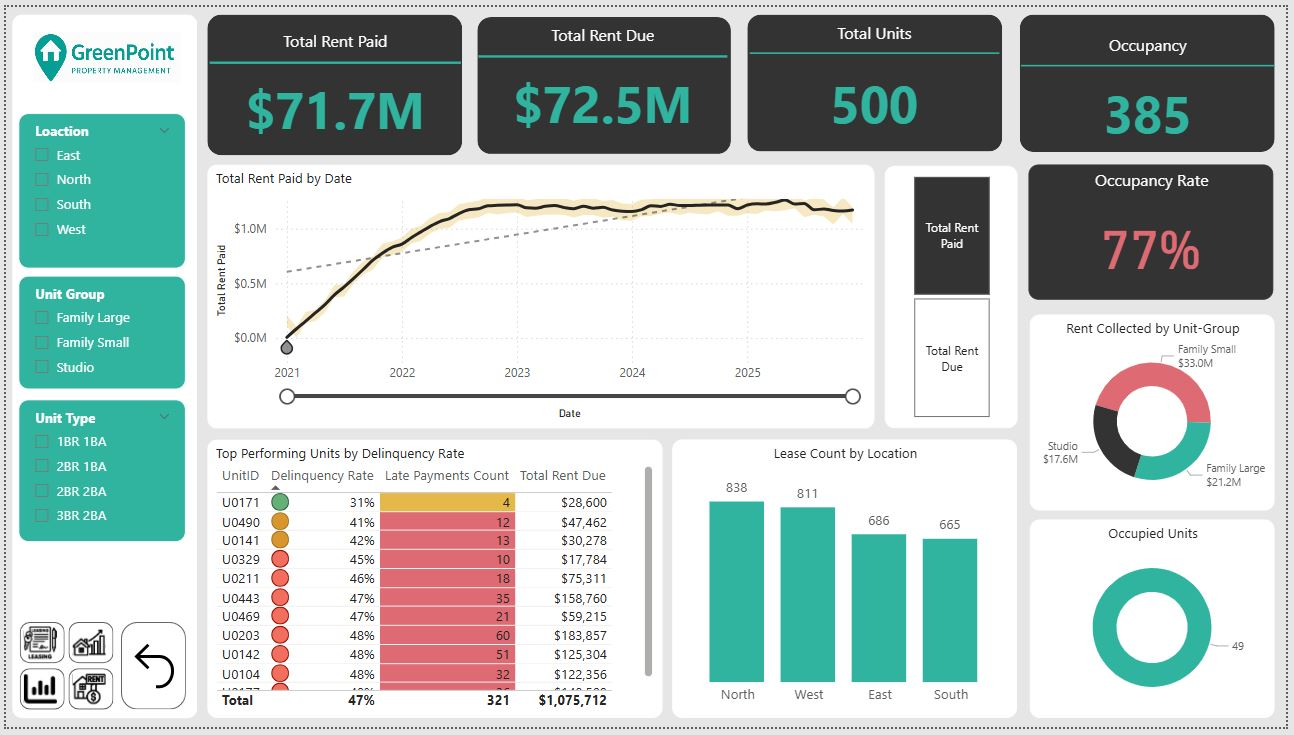

What the dashboard file says about the page in this screenshot:
{"tool":"powerbi","page":{"name":"Exec Summary","canvas":[1280,720],"ordinal":0},"visuals":[{"type":"group","id":"g1","title":"KPI","box":[201.4,3.7,1067,284.1],"z":0},{"type":"shape","box":[471.9,10.3,253.9,137.1],"z":0,"group":"g4"},{"type":"kpi","title":"Collection Rate","fields":{"Indicator":["Measures Table.Occupancy Rate"]},"box":[768.4,163.8,232.3,124.1],"z":0,"group":"g1"},{"type":"shape","box":[201.4,8,255,140.9],"z":500,"group":"g5"},{"type":"shape","box":[740.9,7.7,255,137.1],"z":750,"group":"g2"},{"type":"shape","box":[1013.4,7.5,255,137.5],"z":875,"group":"g3"},{"type":"group","id":"g2","title":"Group 3","box":[740.9,3.7,255,141.2],"z":1000,"group":"g1"},{"type":"card","title":"Total Rent Due","fields":{"Values":["Measures Table.Total Rent Due"]},"box":[473.5,16.5,248.8,122.5],"z":1000,"group":"g4"},{"type":"clusteredColumnChart","title":"Lease Count by Location","fields":{"Category":["Units.Location"],"Y":["CountNonNull(Leases.Occupancy Status)"]},"box":[666.2,432.5,345,278.8],"z":1000},{"type":"group","id":"g3","title":"Group 4","box":[1013.4,7.5,255,137.5],"z":2000,"group":"g1"},{"type":"card","title":"Total Rent Paid","fields":{"Values":["Measures Table.Total Rent Paid"]},"box":[203.6,22.7,251.3,122.7],"z":2000,"group":"g5"},{"type":"donutChart","title":"Rent Collected by Unit-Group","fields":{"Y":["Measures Table.Total Rent Paid"],"Category":["Units.UnitGroup"]},"box":[1023.8,307.5,245,196.2],"z":2000},{"type":"group","id":"g4","title":"Group 2","box":[471.9,10.3,253.9,137.1],"z":3000,"group":"g1"},{"type":"donutChart","title":"Occupied Units","fields":{"Category":["Leases.Occupancy Status"],"Y":["CountNonNull(Leases.Occupancy Status)"]},"box":[1023.8,512.5,245,198.8],"z":3000},{"type":"group","id":"g5","title":"Group 1","box":[201.4,8,255,140],"z":4000,"group":"g1"},{"type":"card","title":"Occupancy Rate","fields":{"Values":["Measures Table.Occupancy Rate"]},"box":[1022.5,157.5,245,135],"z":4000},{"type":"tableEx","title":"Top Performing Units by Delinquency Rate","fields":{"Values":["Units.UnitID","Measures Table.Delinquency Rate","Measures Table.Late Payments Count","Measures Table.Total Rent Due"]},"box":[201.2,432.5,455,278.8],"z":5000},{"type":"card","title":"Occupancy","fields":{"Values":["Leases.Currently Occupied Units"]},"box":[1014.6,16.7,253.7,128.8],"z":6000,"group":"g3"},{"type":"lineChart","fields":{"Y":["Measures Table.Total Rent Paid"],"Category":["DateTable.Date"]},"box":[201.2,157.5,667.5,263.8],"z":6000},{"type":"slicer","fields":{"Values":["Rent Paid/Rent Due.Rent Paid/Rent Due"]},"box":[878.8,158.8,132.5,262.5],"z":7000},{"type":"card","title":"Total Units","fields":{"Values":["CountNonNull(Units.UnitID)"]},"box":[743.5,3.7,249.5,132.5],"z":8000,"group":"g2"},{"type":"shape","title":"Left Nav. Background","box":[6.2,7.5,185,703.8],"z":8000},{"type":"slicer","fields":{"Values":["Units.Location"]},"box":[12.5,106.2,167.5,155],"z":9000},{"type":"slicer","fields":{"Values":["Units.UnitGroup"]},"box":[12.5,268.8,167.5,113.8],"z":10000},{"type":"actionButton","box":[115,615.2,65,87.5],"z":11000},{"type":"image","box":[22.5,20,157.5,60],"z":12000},{"type":"actionButton","box":[13.8,615.2,45,41.2],"z":13000},{"type":"actionButton","box":[62.5,615.2,45,41.2],"z":14000},{"type":"actionButton","box":[62.5,661.5,45,41.2],"z":15000},{"type":"actionButton","box":[13.8,661.5,45,41.2],"z":16000},{"type":"slicer","fields":{"Values":["Units.UnitType"]},"box":[12.5,392.5,167.5,142.5],"z":17000}]}

Visuals, with their boxes in screenshot pixels (x1, y1, x2, y2), scaled from the page's 1280x720 canvas onto the 1294x735 screenshot:
"KPI" group: (left=204, top=4, right=1282, bottom=294)
shape: (left=477, top=11, right=734, bottom=150)
"Collection Rate" kpi: (left=777, top=167, right=1012, bottom=294)
shape: (left=204, top=8, right=461, bottom=152)
shape: (left=749, top=8, right=1007, bottom=148)
shape: (left=1024, top=8, right=1282, bottom=148)
"Group 3" group: (left=749, top=4, right=1007, bottom=148)
"Total Rent Due" card: (left=479, top=17, right=730, bottom=142)
"Lease Count by Location" clusteredColumnChart: (left=673, top=442, right=1022, bottom=726)
"Group 4" group: (left=1024, top=8, right=1282, bottom=148)
"Total Rent Paid" card: (left=206, top=23, right=460, bottom=148)
"Rent Collected by Unit-Group" donutChart: (left=1035, top=314, right=1283, bottom=514)
"Group 2" group: (left=477, top=11, right=734, bottom=150)
"Occupied Units" donutChart: (left=1035, top=523, right=1283, bottom=726)
"Group 1" group: (left=204, top=8, right=461, bottom=151)
"Occupancy Rate" card: (left=1034, top=161, right=1281, bottom=299)
"Top Performing Units by Delinquency Rate" tableEx: (left=203, top=442, right=663, bottom=726)
"Occupancy" card: (left=1026, top=17, right=1282, bottom=149)
lineChart - Measures Table.Total Rent Paid x DateTable.Date: (left=203, top=161, right=878, bottom=430)
slicer - Rent Paid/Rent Due.Rent Paid/Rent Due: (left=888, top=162, right=1022, bottom=430)
"Total Units" card: (left=752, top=4, right=1004, bottom=139)
"Left Nav. Background" shape: (left=6, top=8, right=193, bottom=726)
slicer - Units.Location: (left=13, top=108, right=182, bottom=267)
slicer - Units.UnitGroup: (left=13, top=274, right=182, bottom=391)
actionButton: (left=116, top=628, right=182, bottom=717)
image: (left=23, top=20, right=182, bottom=82)
actionButton: (left=14, top=628, right=59, bottom=670)
actionButton: (left=63, top=628, right=109, bottom=670)
actionButton: (left=63, top=675, right=109, bottom=717)
actionButton: (left=14, top=675, right=59, bottom=717)
slicer - Units.UnitType: (left=13, top=401, right=182, bottom=546)
